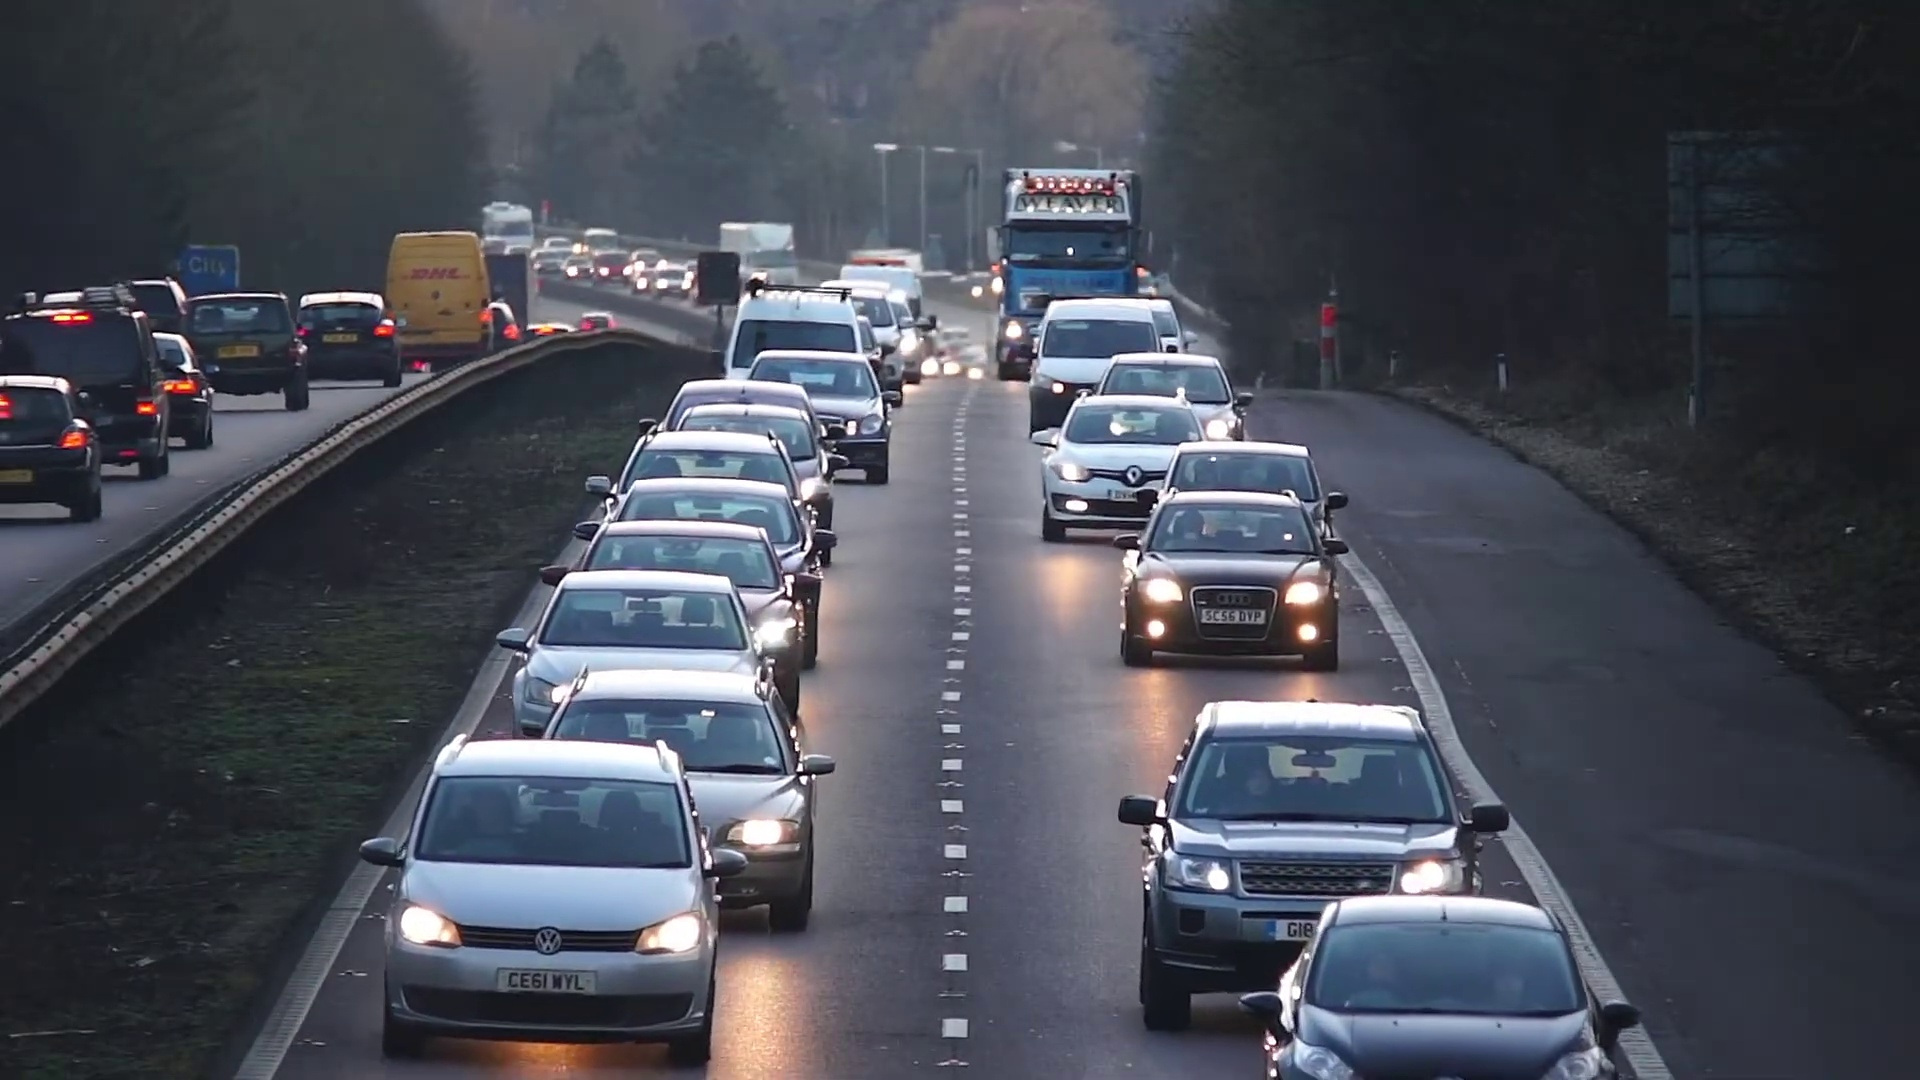license_plate: (493, 962, 590, 999), (1190, 603, 1269, 627)
